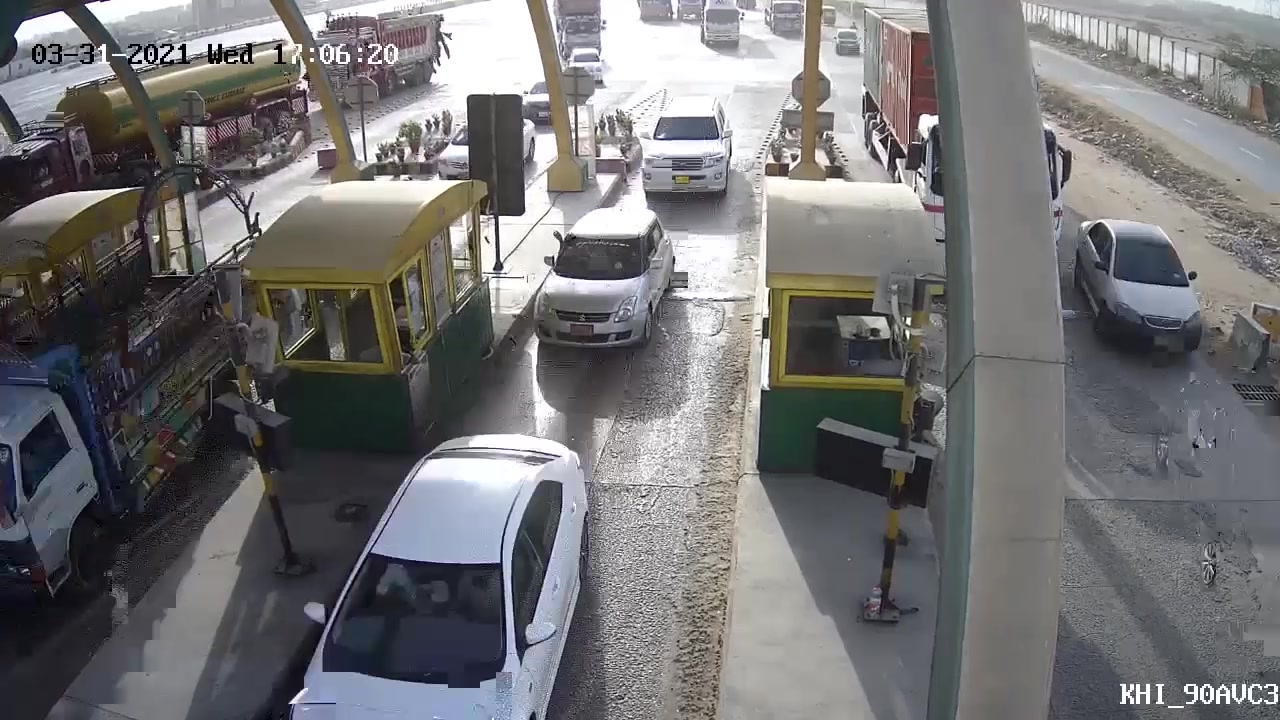F1: (527, 201, 682, 370), (627, 88, 737, 199)
